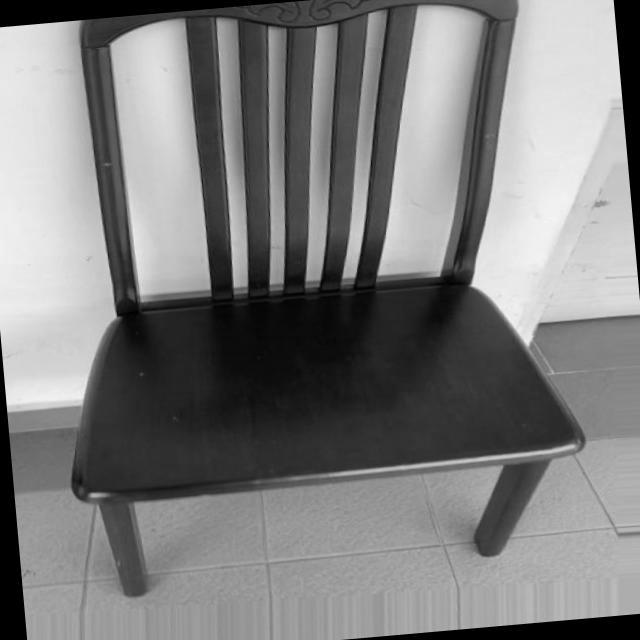chair: (21, 0, 601, 601)
